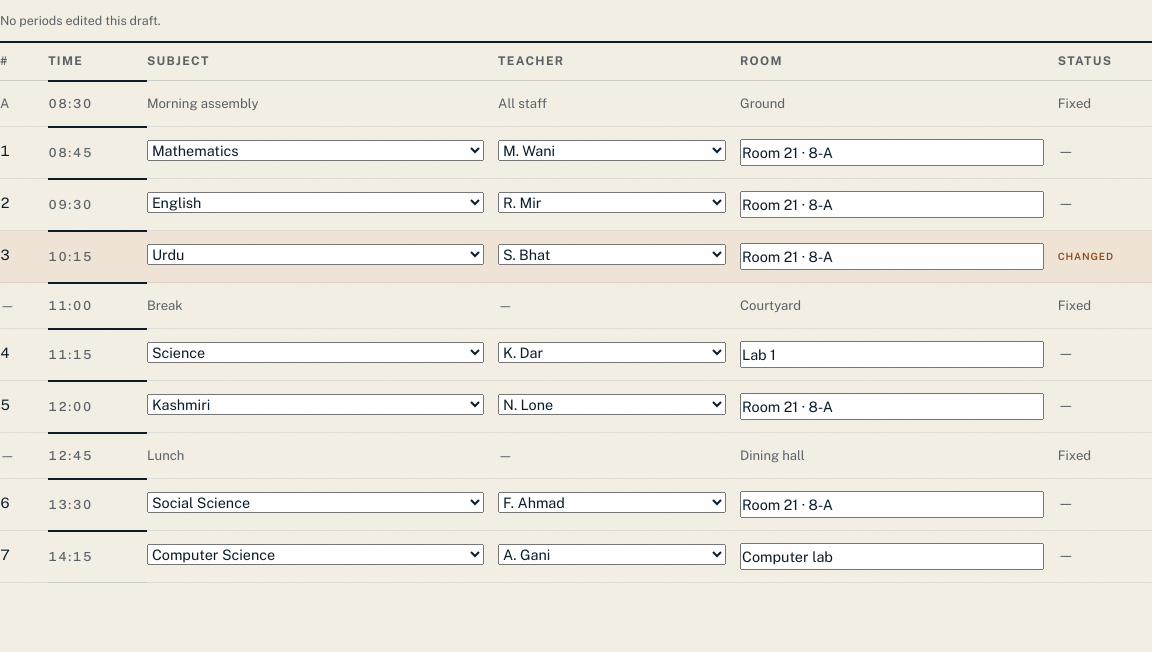
Scenario: TimetableEditor › blocks a conflicting teacher edit inline and never applies it
Select "M. Wani" in the dropdown named "Monday 14:15 teacher". click: (612, 555)
box: x1=498 y1=544 x2=726 y2=565
(page scrolled)
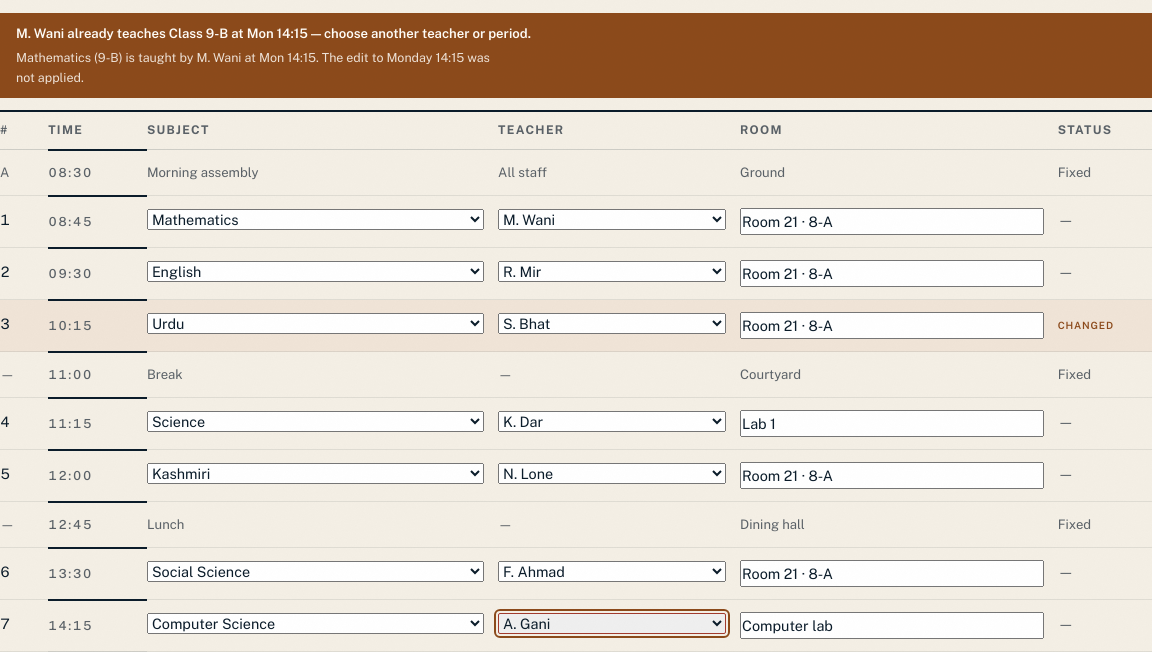
Expected: the 2nd message shows "M. Wani already teaches Class 9-B at Mon 14:15", x1=16 y1=26 x2=531 y2=41
